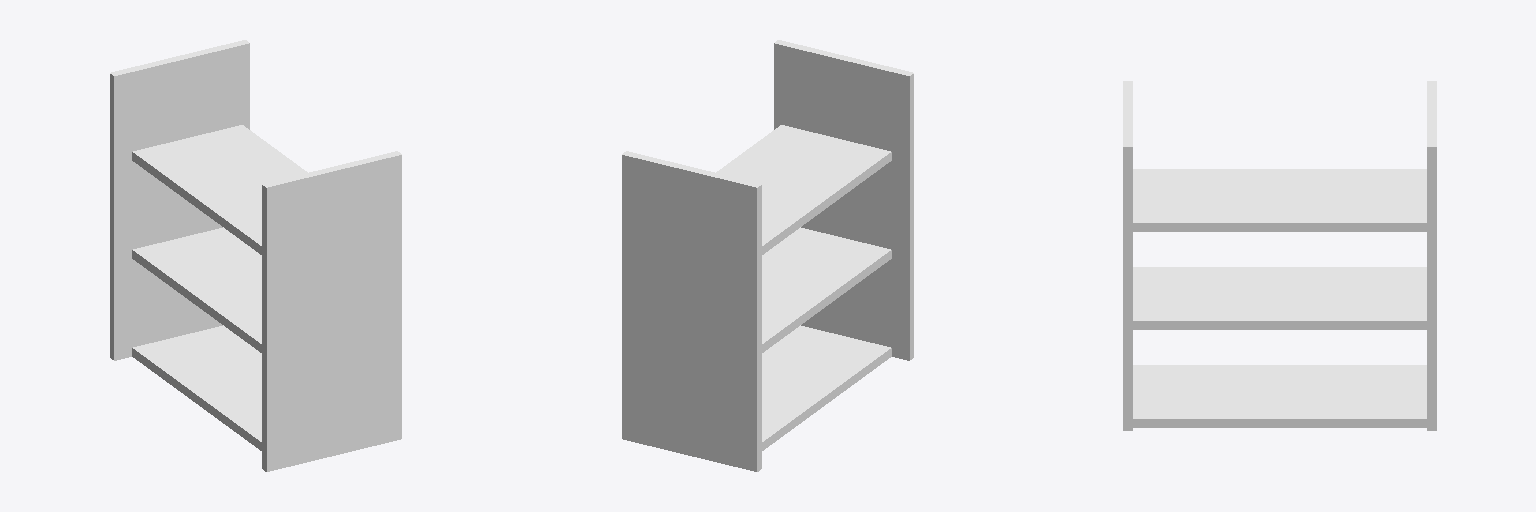
File: potionshelf.obj
The picture shows the model from 3 angles: view 1: azimuth 30°, elevation 25°; view 2: azimuth 150°, elevation 25°; view 3: azimuth 270°, elevation 25°; orthographic projection.
Parts seen in each view (by area): view 1: potionshelf; view 2: potionshelf; view 3: potionshelf.
Boxes of the visible parts, <box> form: potionshelf: <box>110,40,401,471</box>; potionshelf: <box>622,40,913,471</box>; potionshelf: <box>1123,81,1436,430</box>.
Bounding box in the file's own units: 0.5 × 1 × 1.